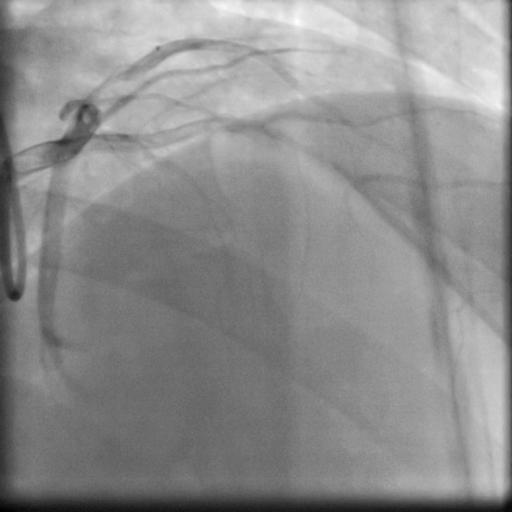Stenosis: (77, 68, 128, 96)
